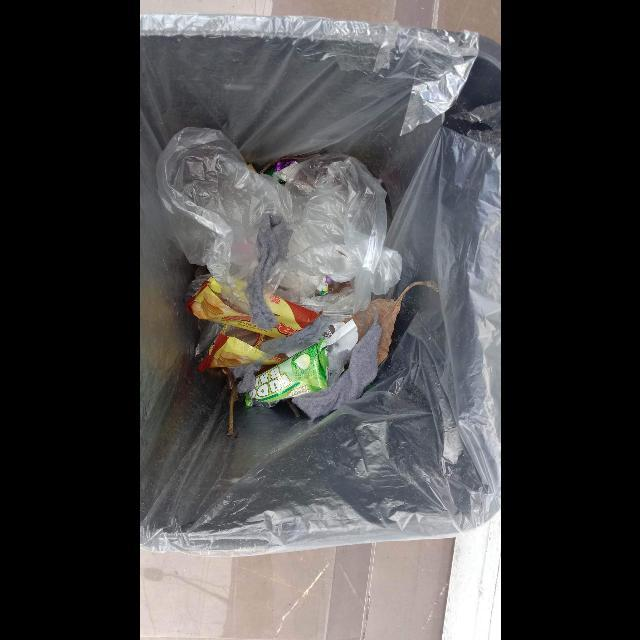biowaste: (342, 281, 439, 366)
plastic: (157, 128, 402, 320)
wrapper: (186, 276, 322, 338), (244, 336, 328, 408), (198, 325, 287, 373)
